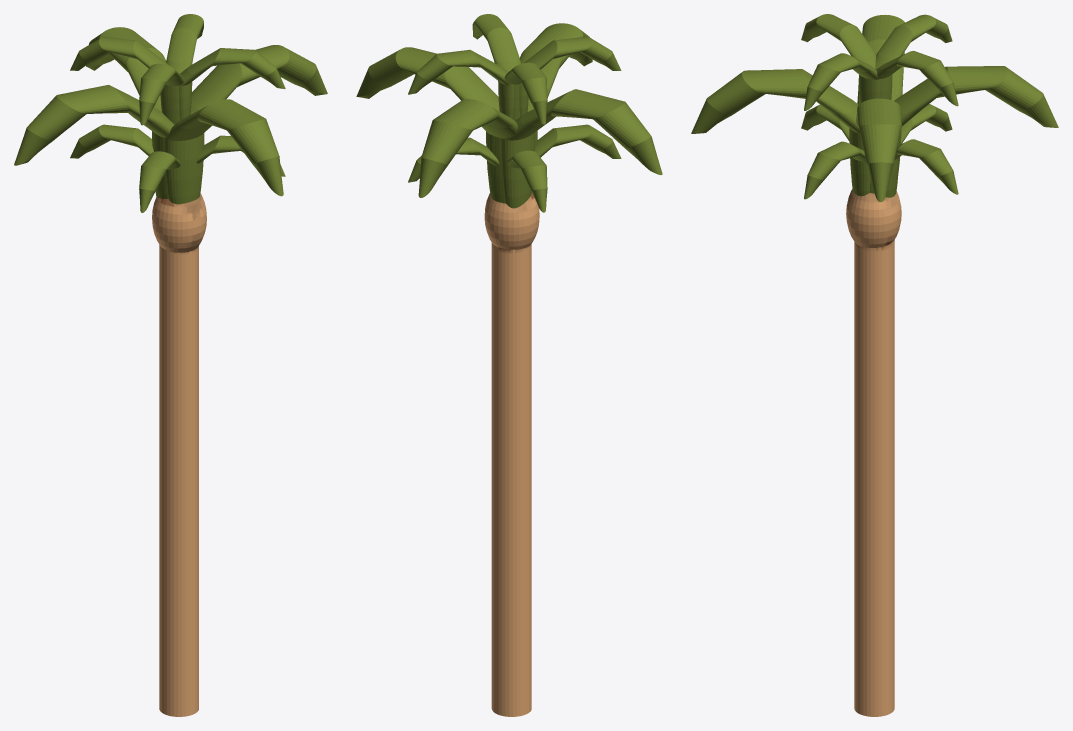
The model's file is palm_tree_1.glb.
3 views of the same model, side by side, from view 1: azimuth 30°, elevation 25°; view 2: azimuth 150°, elevation 25°; view 3: azimuth 270°, elevation 25° (orthographic).
Visible parts, largest first — view 1: Leaves 2, BASE2; view 2: Leaves 2, BASE2; view 3: Leaves 2, BASE2.
Part boxes in pixels (<box>): Leaves 2: <box>14,14,327,212</box>; BASE2: <box>152,193,206,716</box>; Leaves 2: <box>356,14,662,212</box>; BASE2: <box>484,192,539,716</box>; Leaves 2: <box>691,14,1058,201</box>; BASE2: <box>846,189,901,716</box>.
Bounding box in the file's own units: 9.36 × 19.17 × 9.56.
2 materials, 2 textured.
